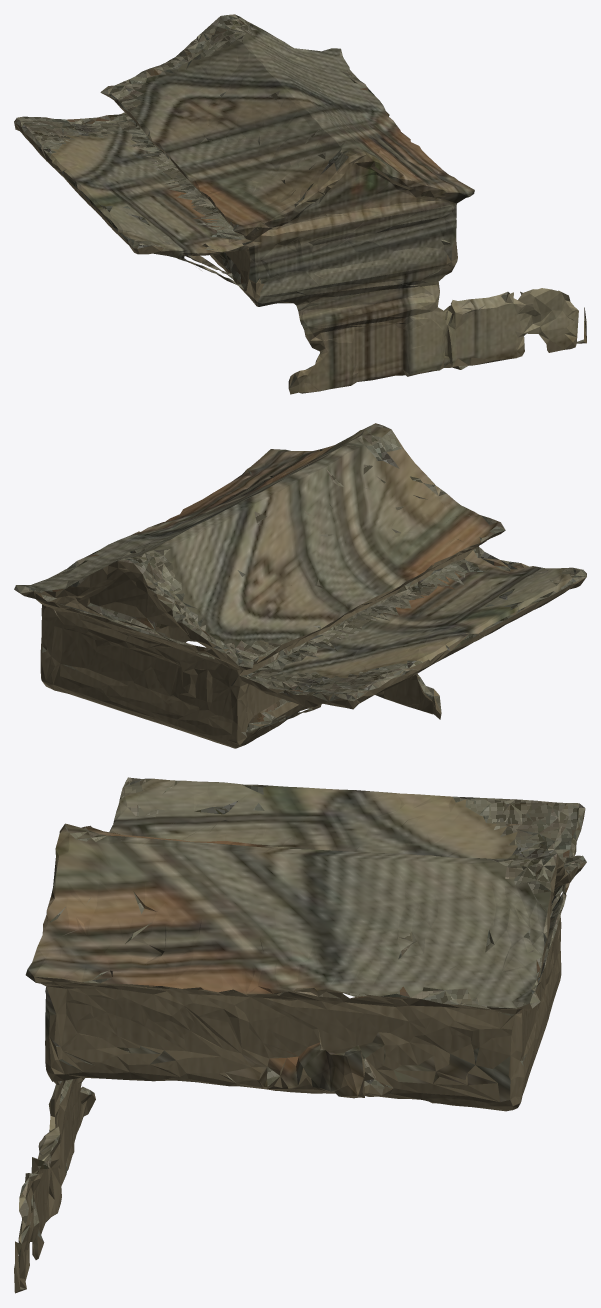
3 renders of one model, top to bottom at view 1: azimuth 30°, elevation 25°; view 2: azimuth 150°, elevation 25°; view 3: azimuth 270°, elevation 25°, orthographic. The views are drawn at different scales.
Visible parts, largest first — view 1: painted, roof, wall; view 2: painted, wall, roof; view 3: painted, wall, roof.
Part boxes in pixels (box(x1,y1,x2,y2)): painted: box(50, 23, 586, 394); roof: box(14, 14, 583, 387); wall: box(14, 33, 586, 393); painted: box(17, 423, 572, 711); wall: box(20, 530, 586, 748); roof: box(14, 425, 586, 736); painted: box(14, 778, 550, 1287); wall: box(14, 795, 586, 1293); roof: box(19, 777, 586, 1289).
Size of the model in its own units: 5.49 by 2.97 by 4.7.
Materials: 3 (3 with a texture image).
